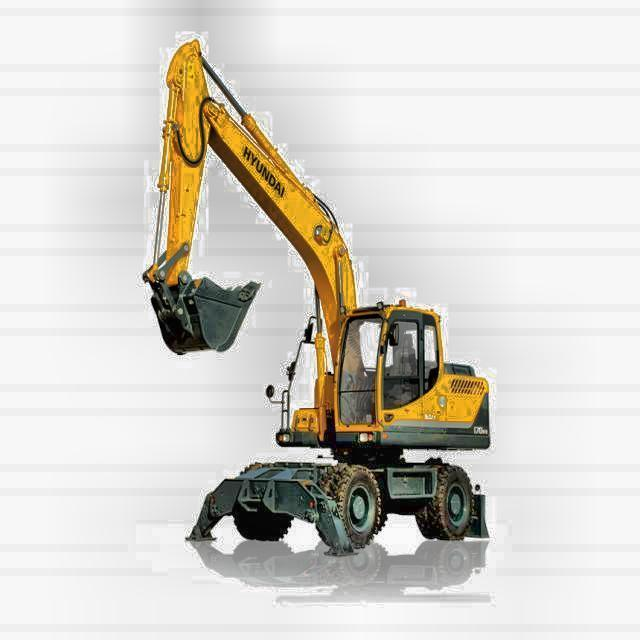excavator: (140, 36, 496, 558)
